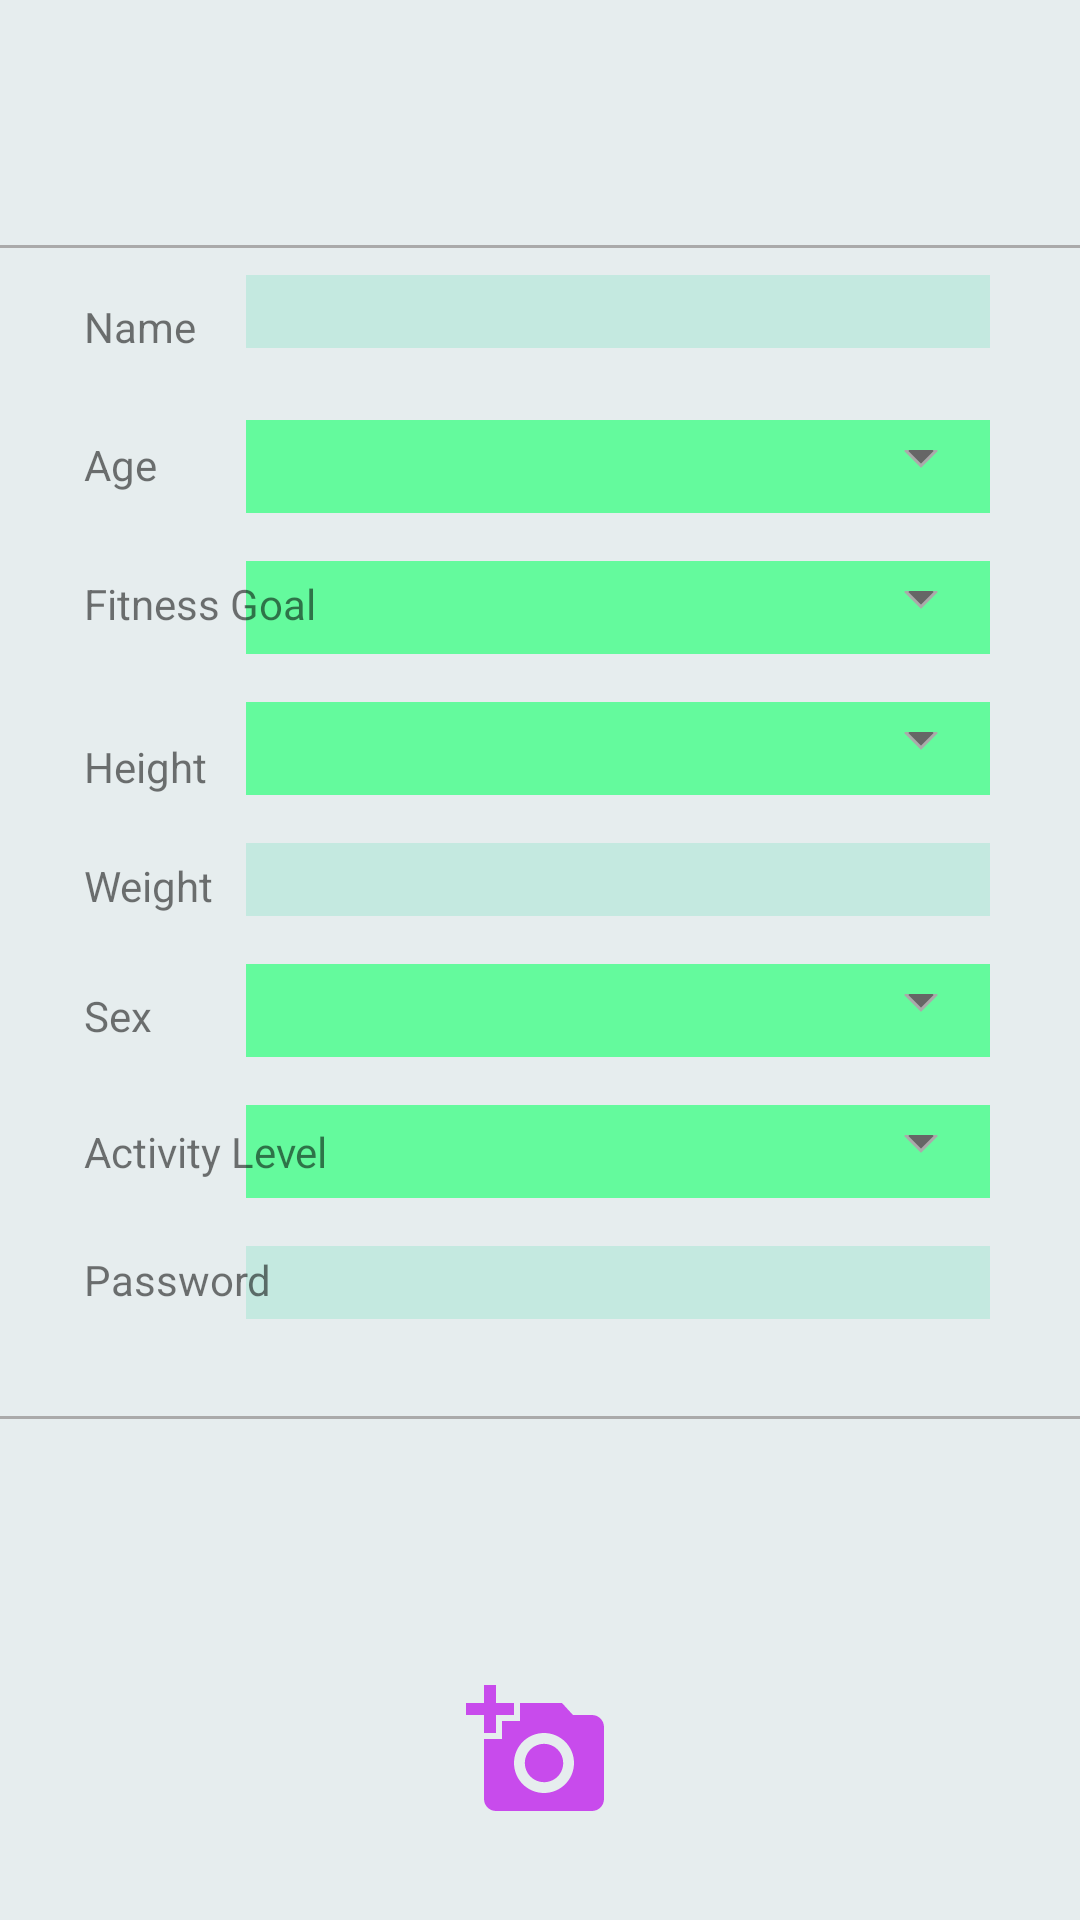

Where icons sit on this 1080w x 1920h app screen, as bbox=(x1, y1, x2, y2):
add photo: bbox=(466, 1685, 604, 1811)
